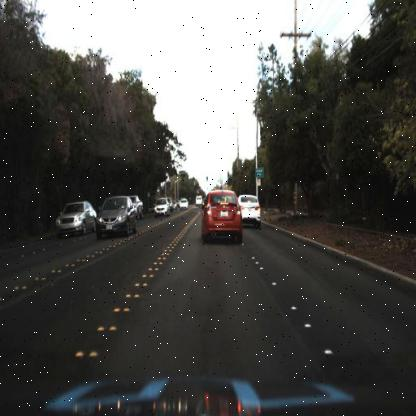car: (201, 185, 243, 244), (96, 191, 138, 242), (93, 192, 137, 240), (56, 200, 96, 238), (238, 193, 265, 228), (129, 193, 146, 221), (152, 196, 173, 218), (153, 196, 169, 214), (178, 196, 188, 212), (194, 193, 204, 207)
